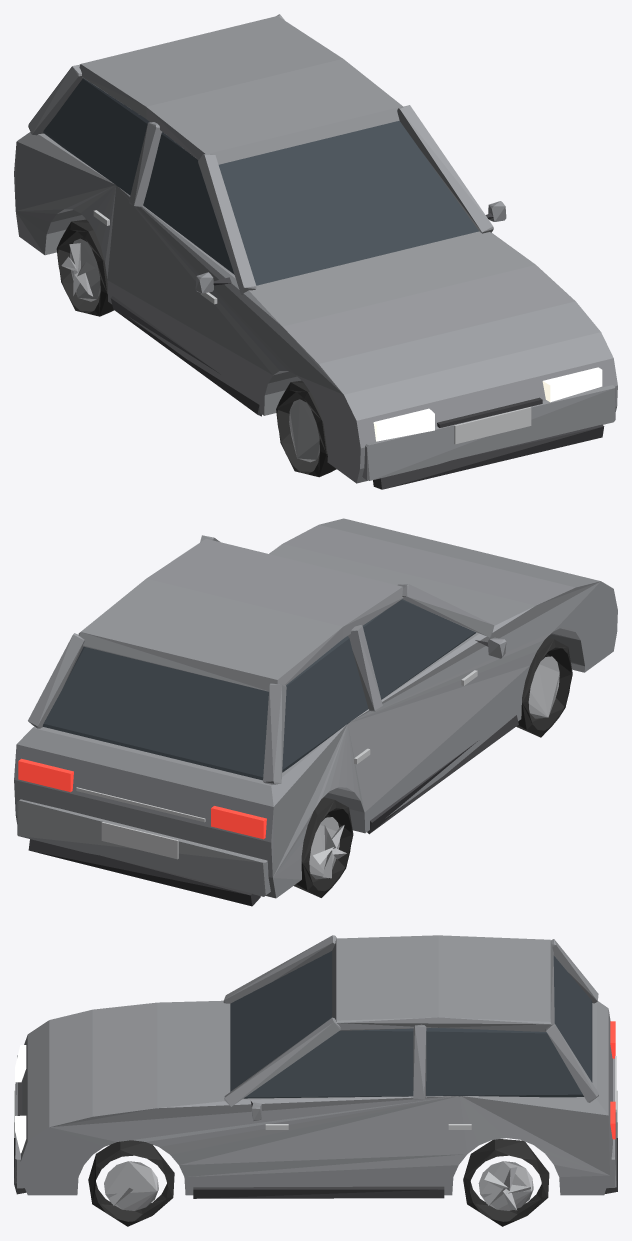
The model's file is car-grey-lod1.glb.
3 renders of one model, top to bottom at view 1: azimuth 30°, elevation 25°; view 2: azimuth 150°, elevation 25°; view 3: azimuth 270°, elevation 25°, orthographic. The views are drawn at different scales.
Size of the model in its own units: 2.1 by 1.52 by 4.19.
